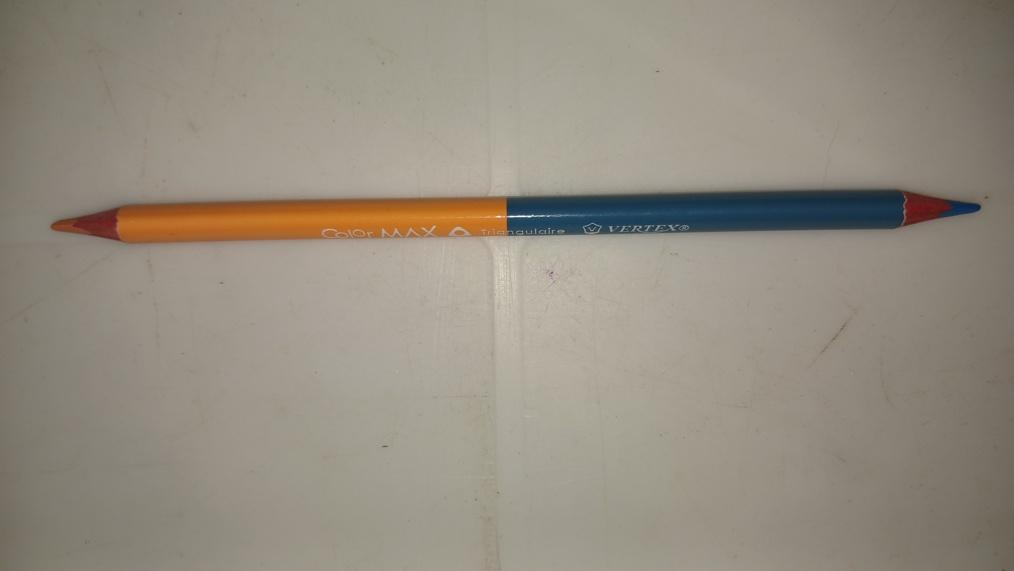Pencil: (62, 188, 990, 242)
